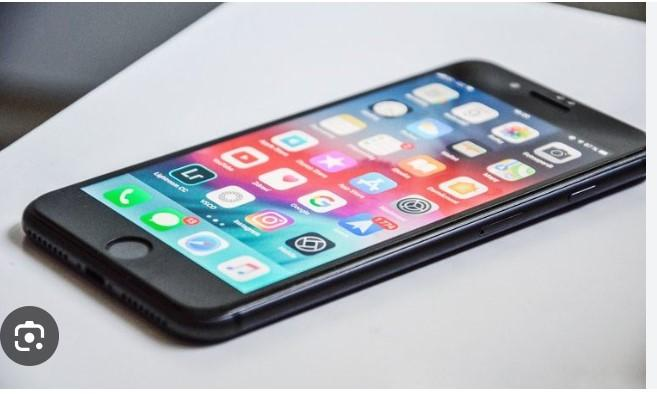Smart Phone: (20, 59, 646, 349)
